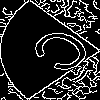C: (25, 25, 100, 83)
